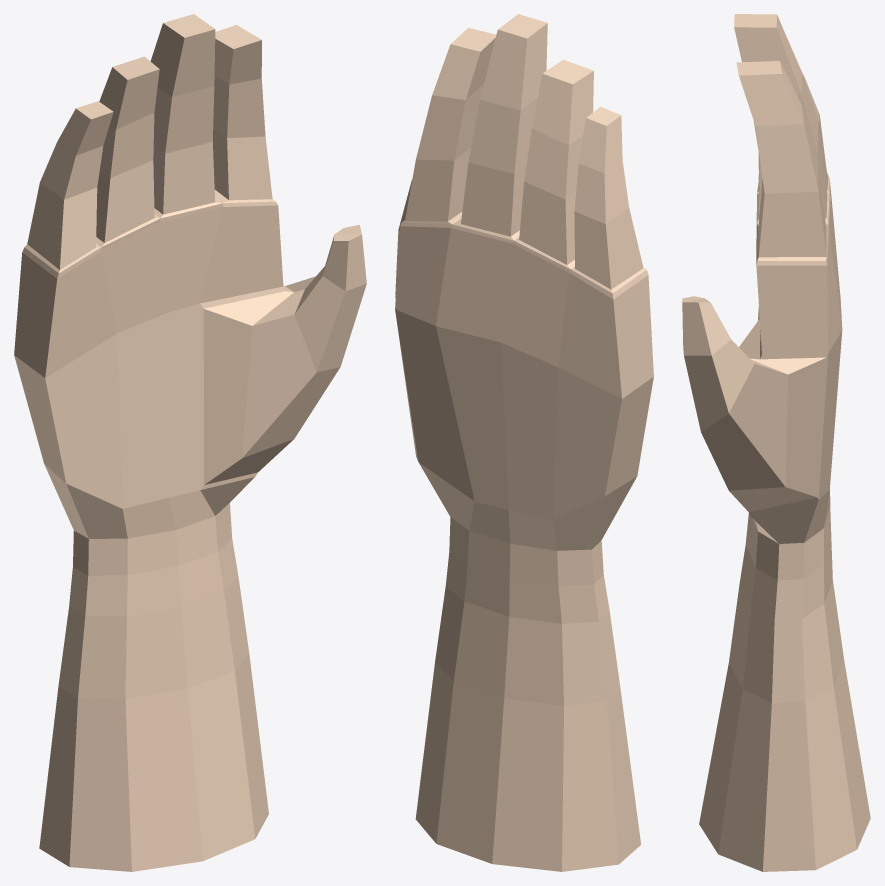
File: Player_R____.fbx
3 views of the same model, side by side, from view 1: azimuth 30°, elevation 25°; view 2: azimuth 150°, elevation 25°; view 3: azimuth 270°, elevation 25° (orthographic). The views are drawn at different scales.
Parts seen in each view (by area): view 1: Player_R; view 2: Player_R; view 3: Player_R.
Boxes of the visible parts, x1,y1,x2,y2 form: Player_R: (14,14,366,871); Player_R: (395,14,653,871); Player_R: (682,14,870,871).
Size of the model in its own units: 0.3413 by 0.9165 by 0.193.
